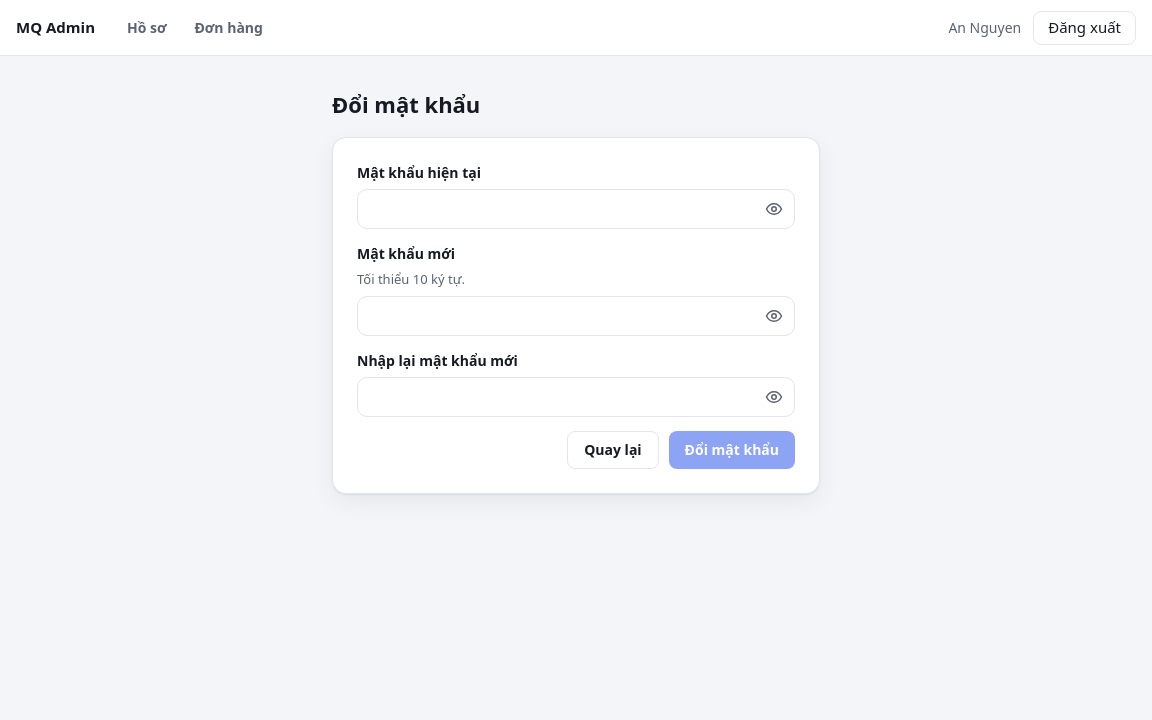
Test: ChangePasswordPage › shows "wrong current password" and clears only that field
expect the heading "Đổi mật khẩu" is shown: met, box left=332, top=89, right=480, bottom=119
Type "not-my-password" into the password field labelled "Mật khẩu hiện tại" at point(576, 209), box left=357, top=189, right=795, bottom=229
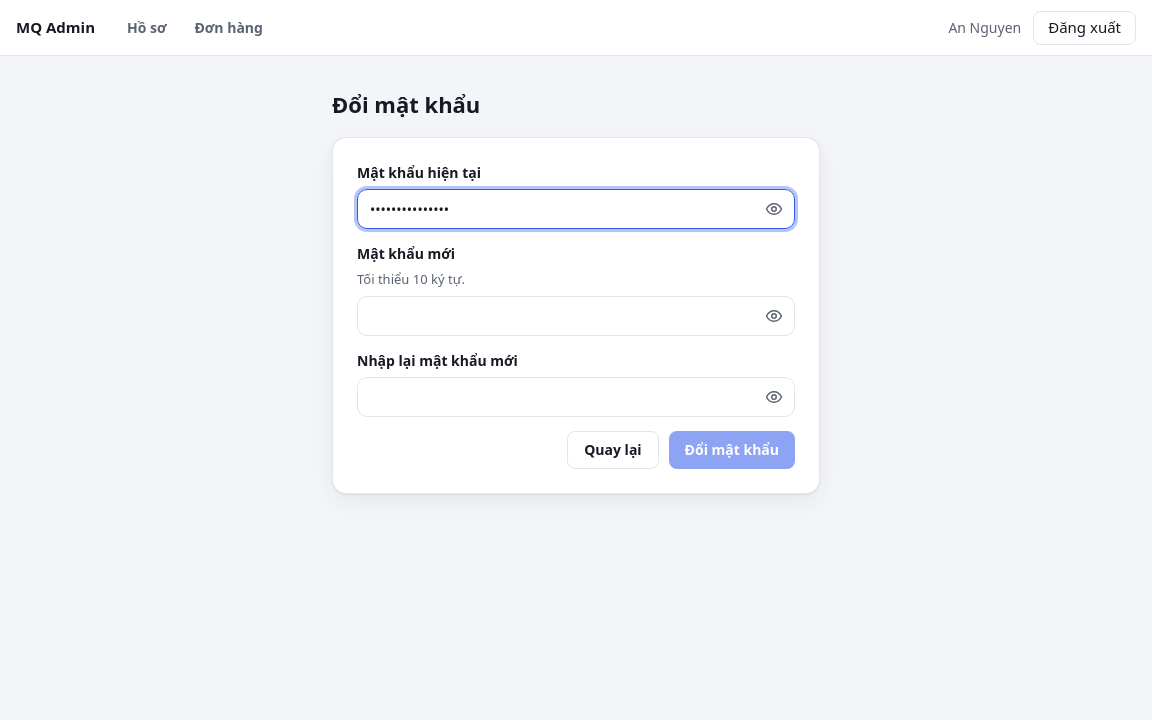
Type "new-password-123" into the password field labelled "Mật khẩu mới" at point(576, 316), box left=357, top=296, right=795, bottom=336
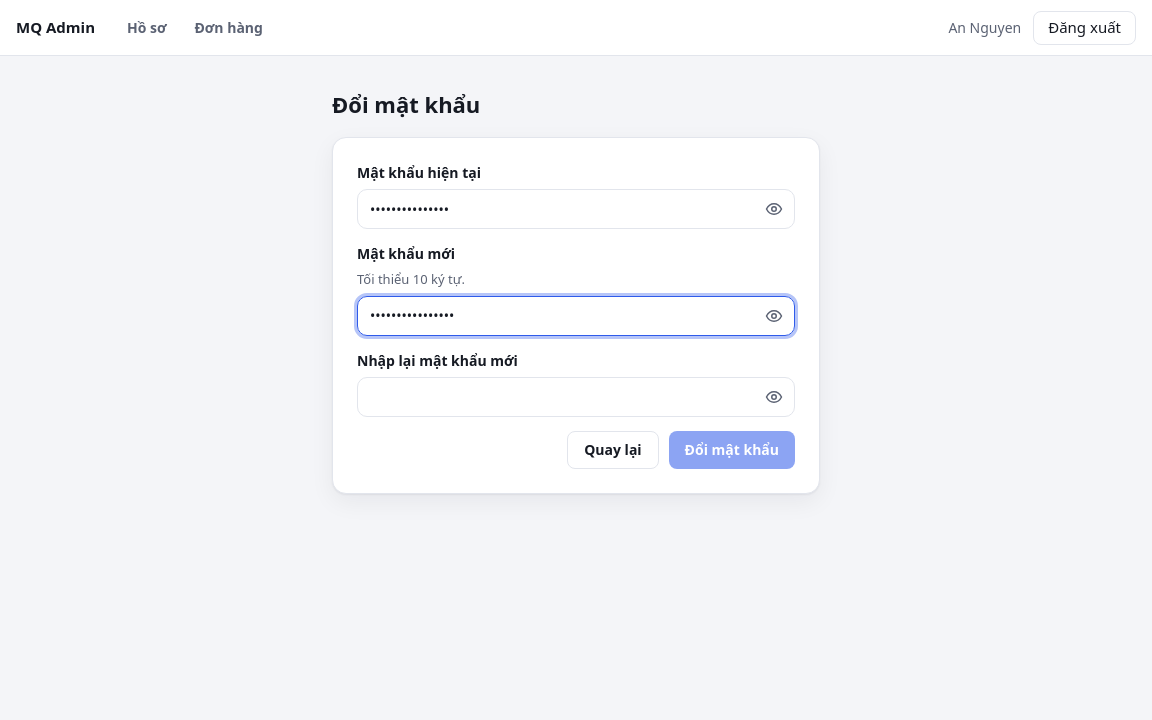
Type "new-password-123" into the password field labelled "Nhập lại mật khẩu mới" at point(576, 396), box left=357, top=376, right=795, bottom=416
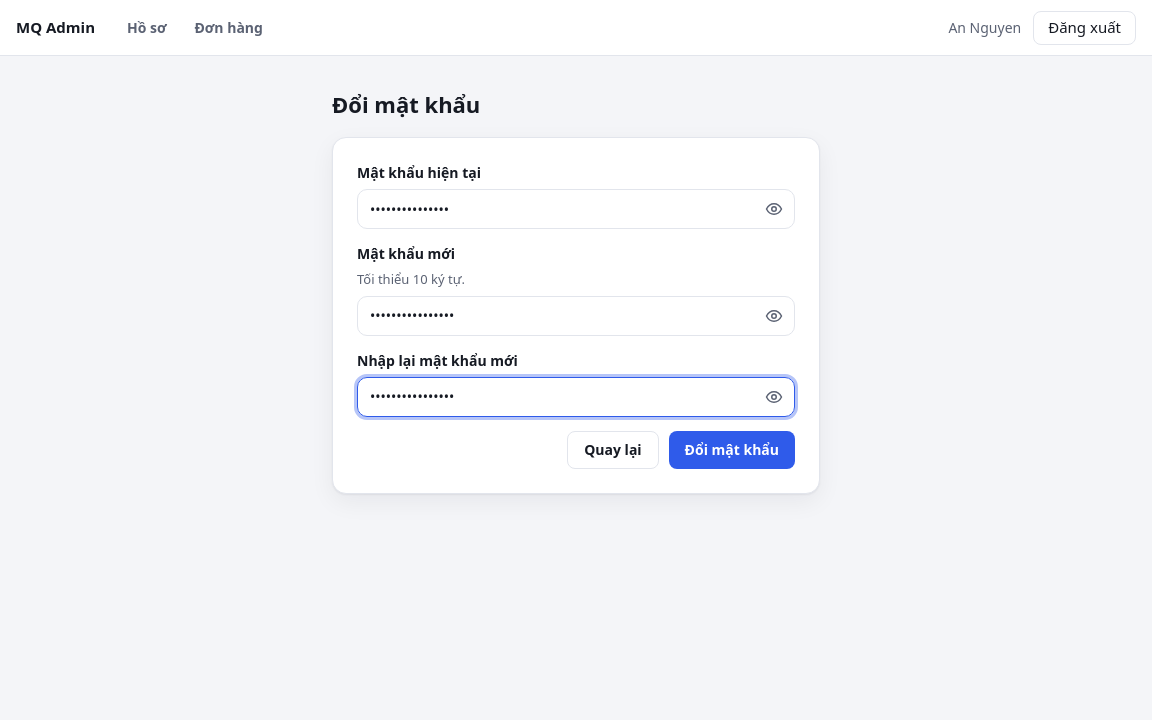
Click the button "Đổi mật khẩu" at point(732, 450), box left=669, top=430, right=795, bottom=468
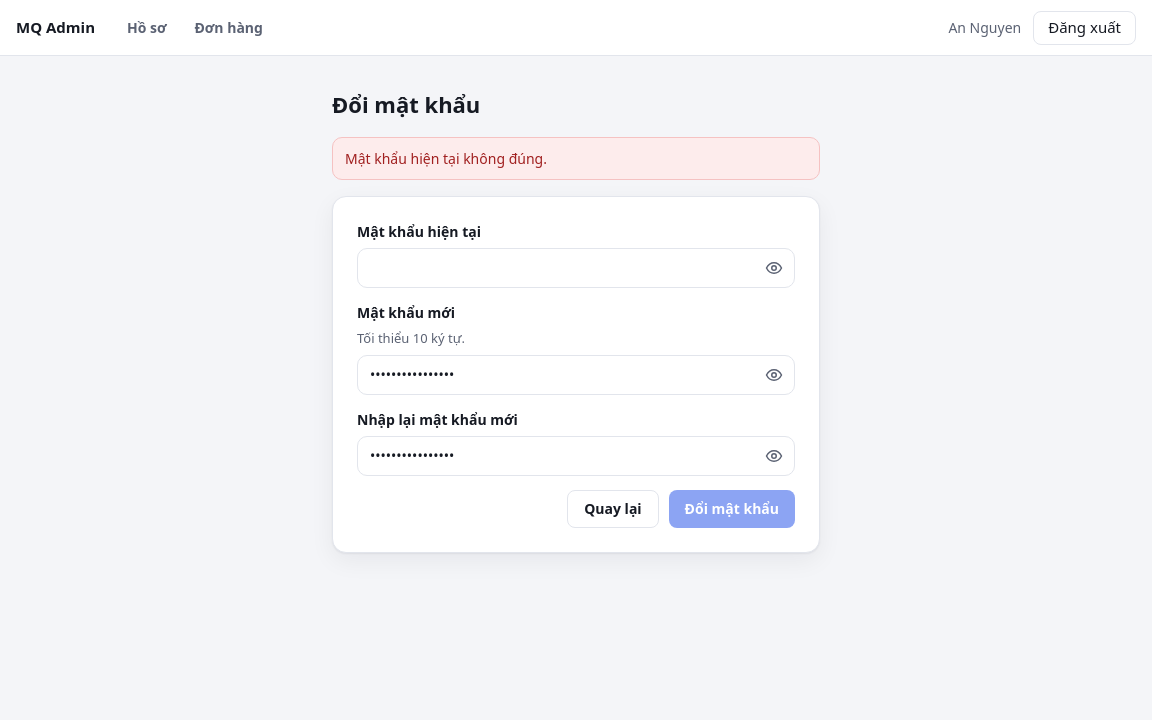
expect the message reads "Mật khẩu hiện tại không đúng.": met, box left=345, top=149, right=547, bottom=168
expect the password field labelled "Mật khẩu hiện tại" is empty: met, box left=357, top=248, right=795, bottom=288
